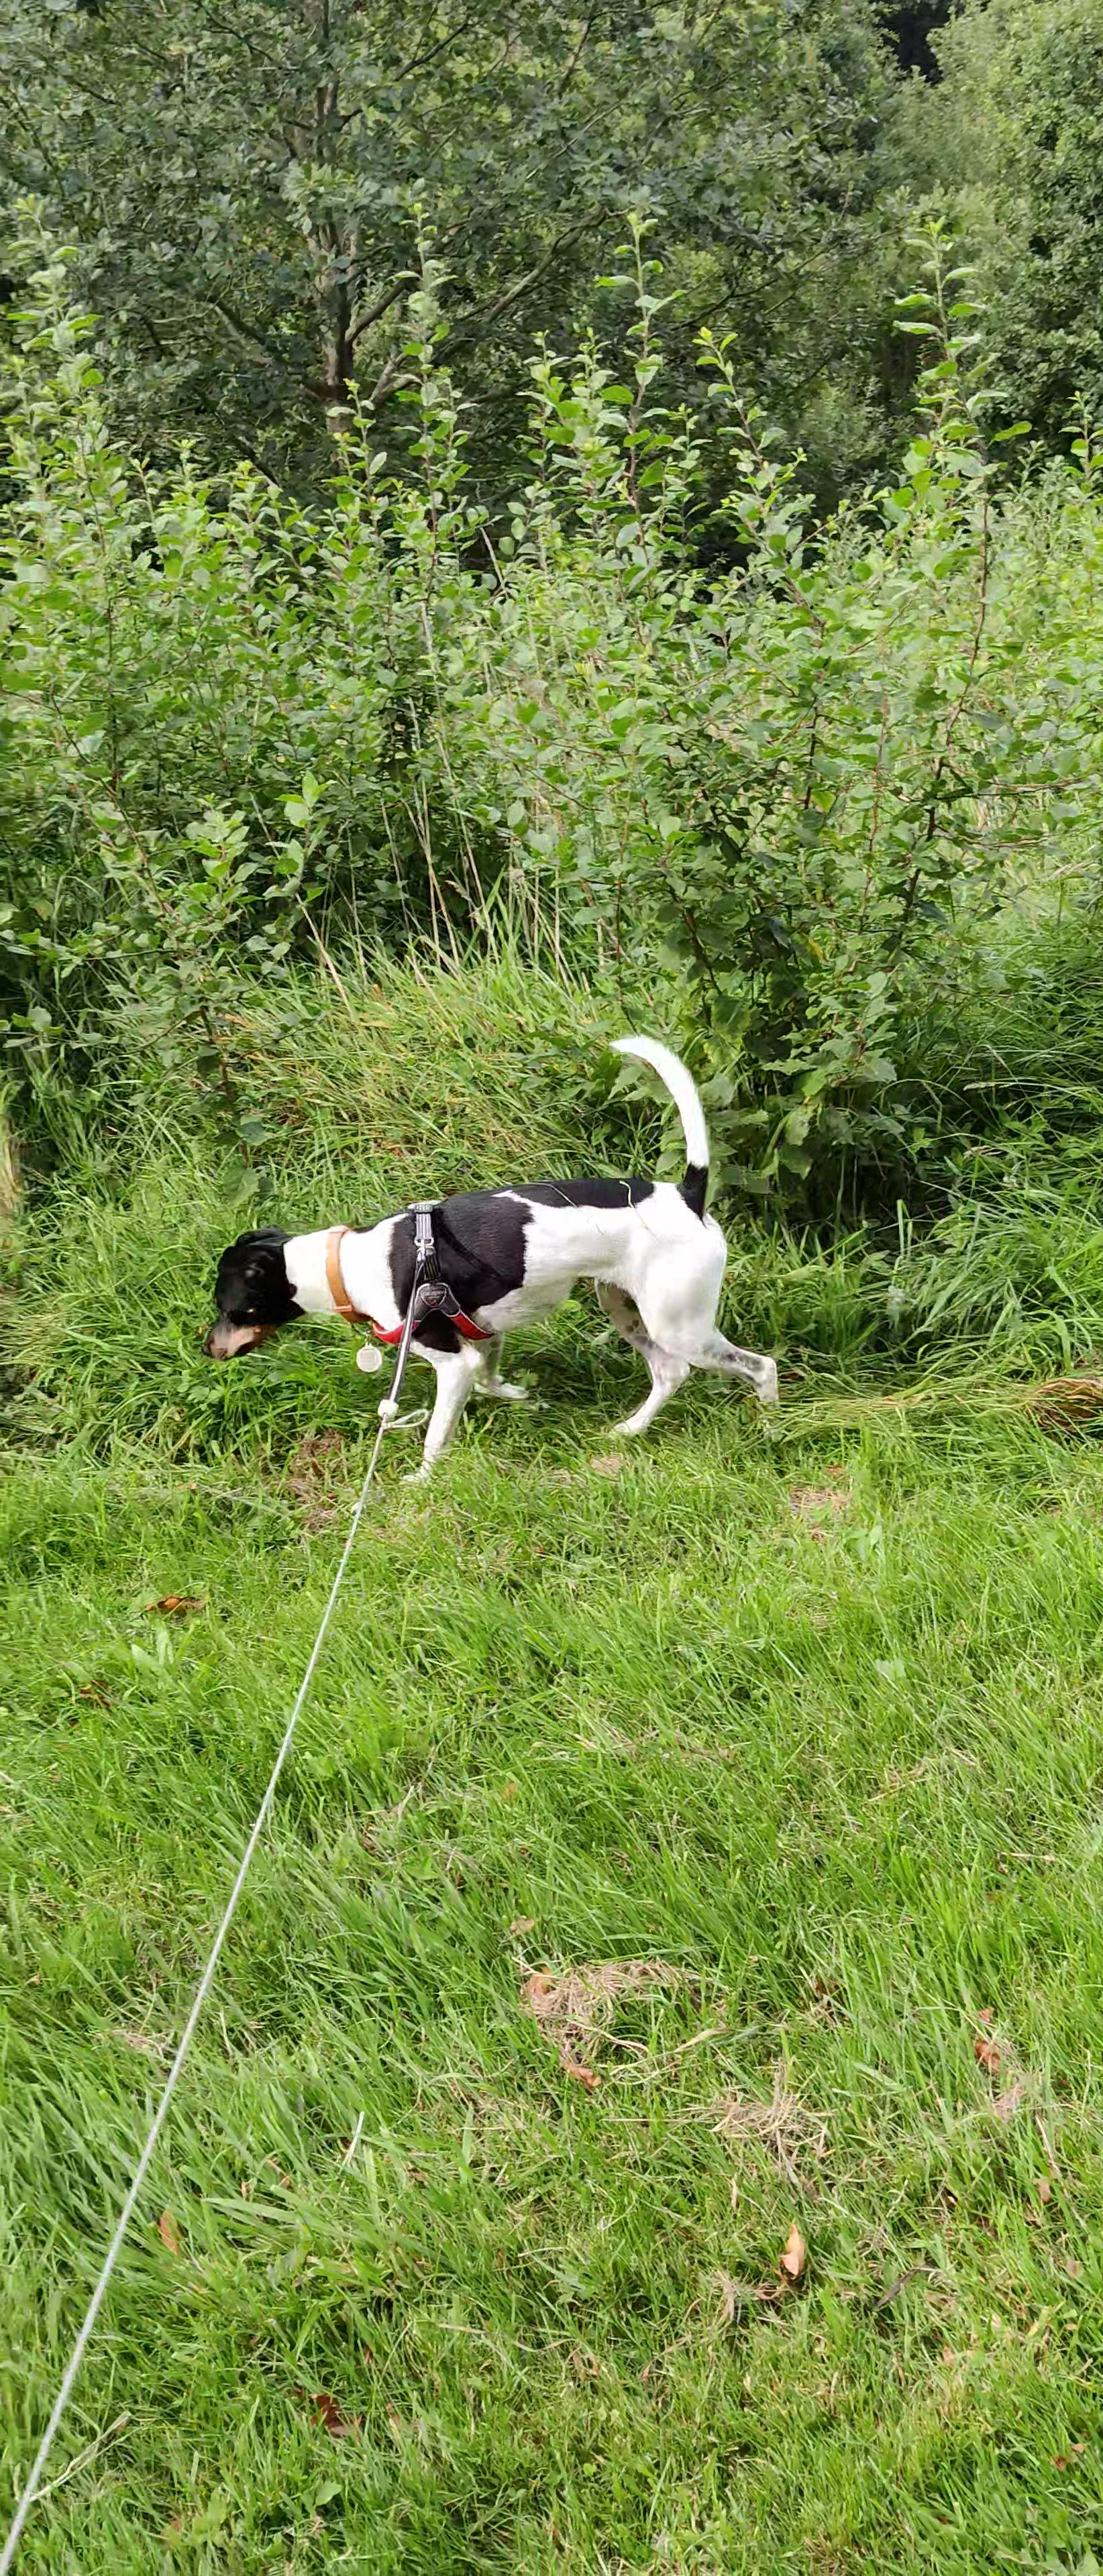Dog: (158, 1005, 799, 1505)
